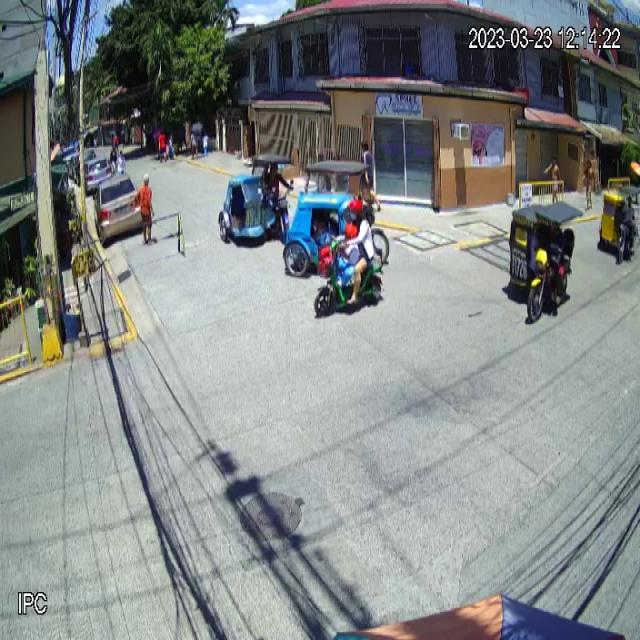Car: (94, 173, 144, 246)
Tricycle: (282, 159, 389, 276), (508, 200, 584, 323), (218, 153, 294, 244)
